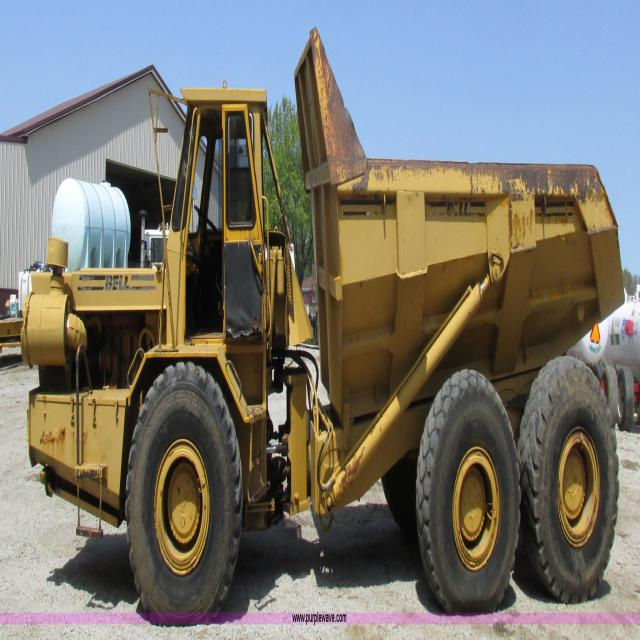dump_truck: (28, 37, 620, 611)
